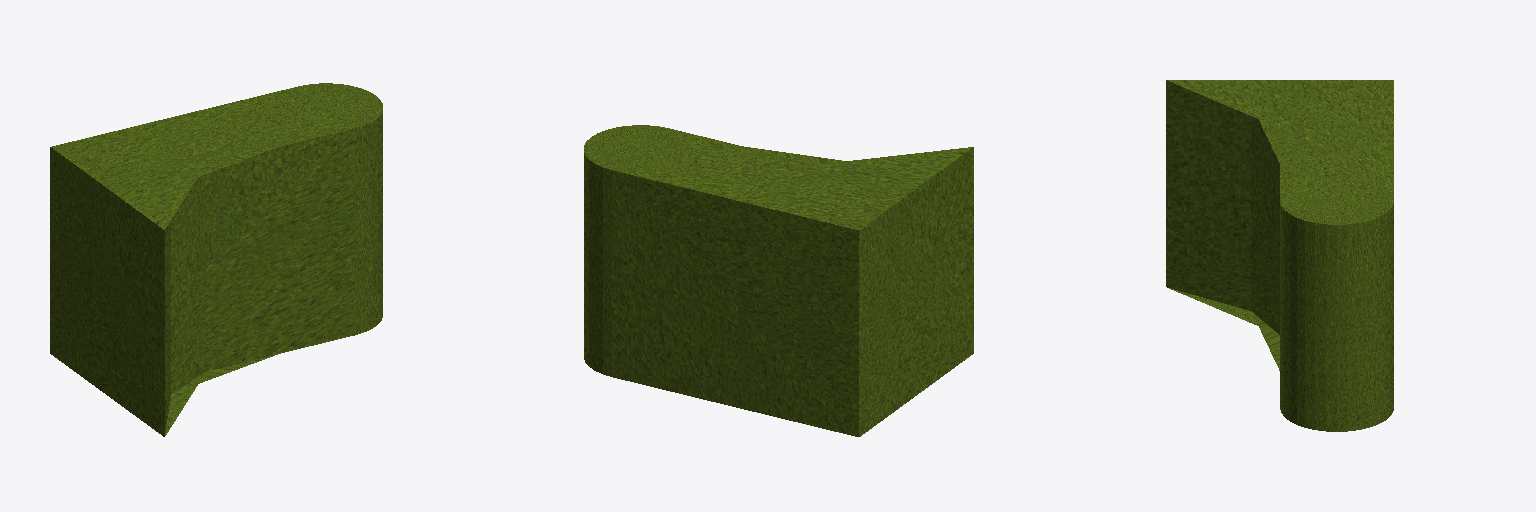
3 views of the same model, side by side, from view 1: azimuth 30°, elevation 25°; view 2: azimuth 150°, elevation 25°; view 3: azimuth 270°, elevation 25° (orthographic).
Parts seen in each view (by area): view 1: Cylinder; view 2: Cylinder; view 3: Cylinder.
Part boxes in pixels (left/top/right/bottom): Cylinder: left=50, top=83, right=382, bottom=436; Cylinder: left=584, top=125, right=973, bottom=436; Cylinder: left=1166, top=80, right=1393, bottom=431.
Bounding box in the file's own units: 6 × 4 × 4.
Materials: 1 (1 with a texture image).